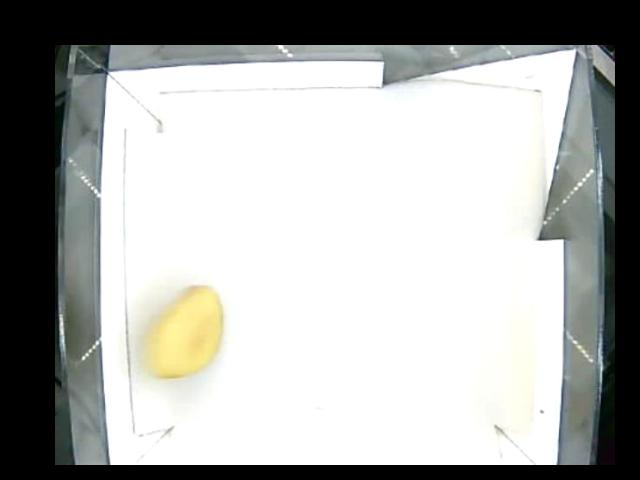Potato: (142, 285, 223, 380)
